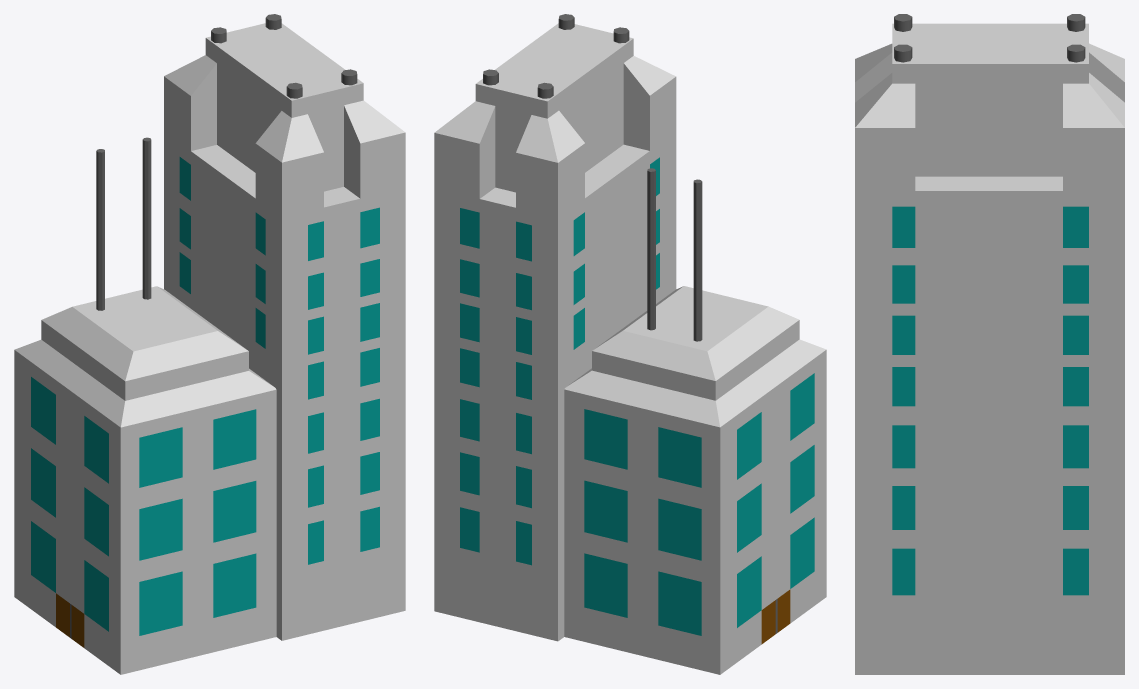
File: Middle-height building.FBX
3 views of the same model, side by side, from view 1: azimuth 30°, elevation 25°; view 2: azimuth 150°, elevation 25°; view 3: azimuth 270°, elevation 25° (orthographic). The views are drawn at different scales.
Visible parts, largest first — view 1: Box002; view 2: Box002; view 3: Box002.
Boxes of the visible parts, x1,y1,x2,y2 form: Box002: (14, 14, 405, 674); Box002: (434, 14, 826, 674); Box002: (855, 14, 1124, 674).
Size of the model in its own units: 625 by 1134 by 457.
